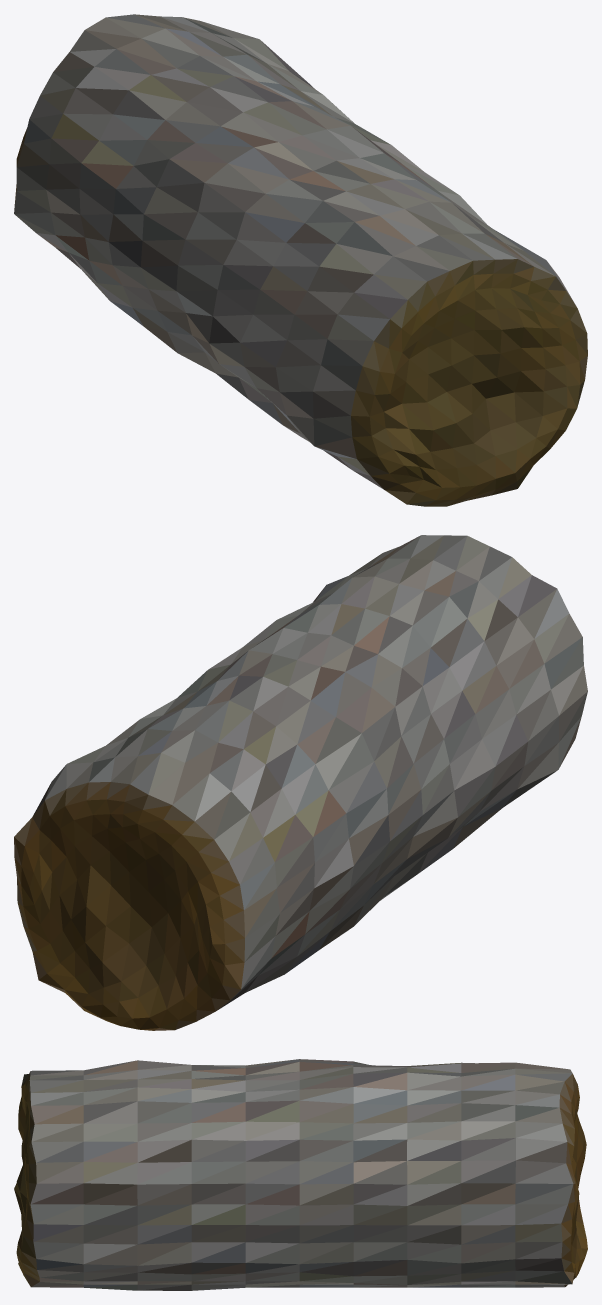
The model's file is r32_eichenstamm.glb.
3 views of the same model, one above another, from view 1: azimuth 30°, elevation 25°; view 2: azimuth 150°, elevation 25°; view 3: azimuth 270°, elevation 25° (orthographic). The views are drawn at different scales.
Parts seen in each view (by area): view 1: stamm; view 2: stamm; view 3: stamm.
Part boxes in pixels (bbox=[...]): stamm: bbox=[14, 14, 587, 506]; stamm: bbox=[14, 535, 587, 1030]; stamm: bbox=[14, 1059, 587, 1290].
Bounding box in the file's own units: 0.4055 × 0.4064 × 1.
